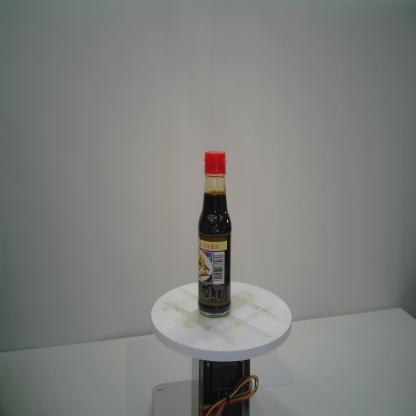Seasoner: (197, 151, 232, 318)
